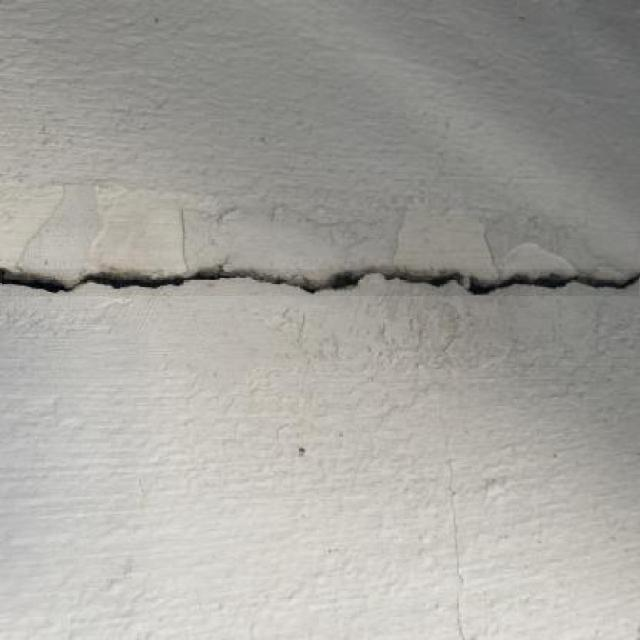horizontal crack: (2, 269, 638, 296)
